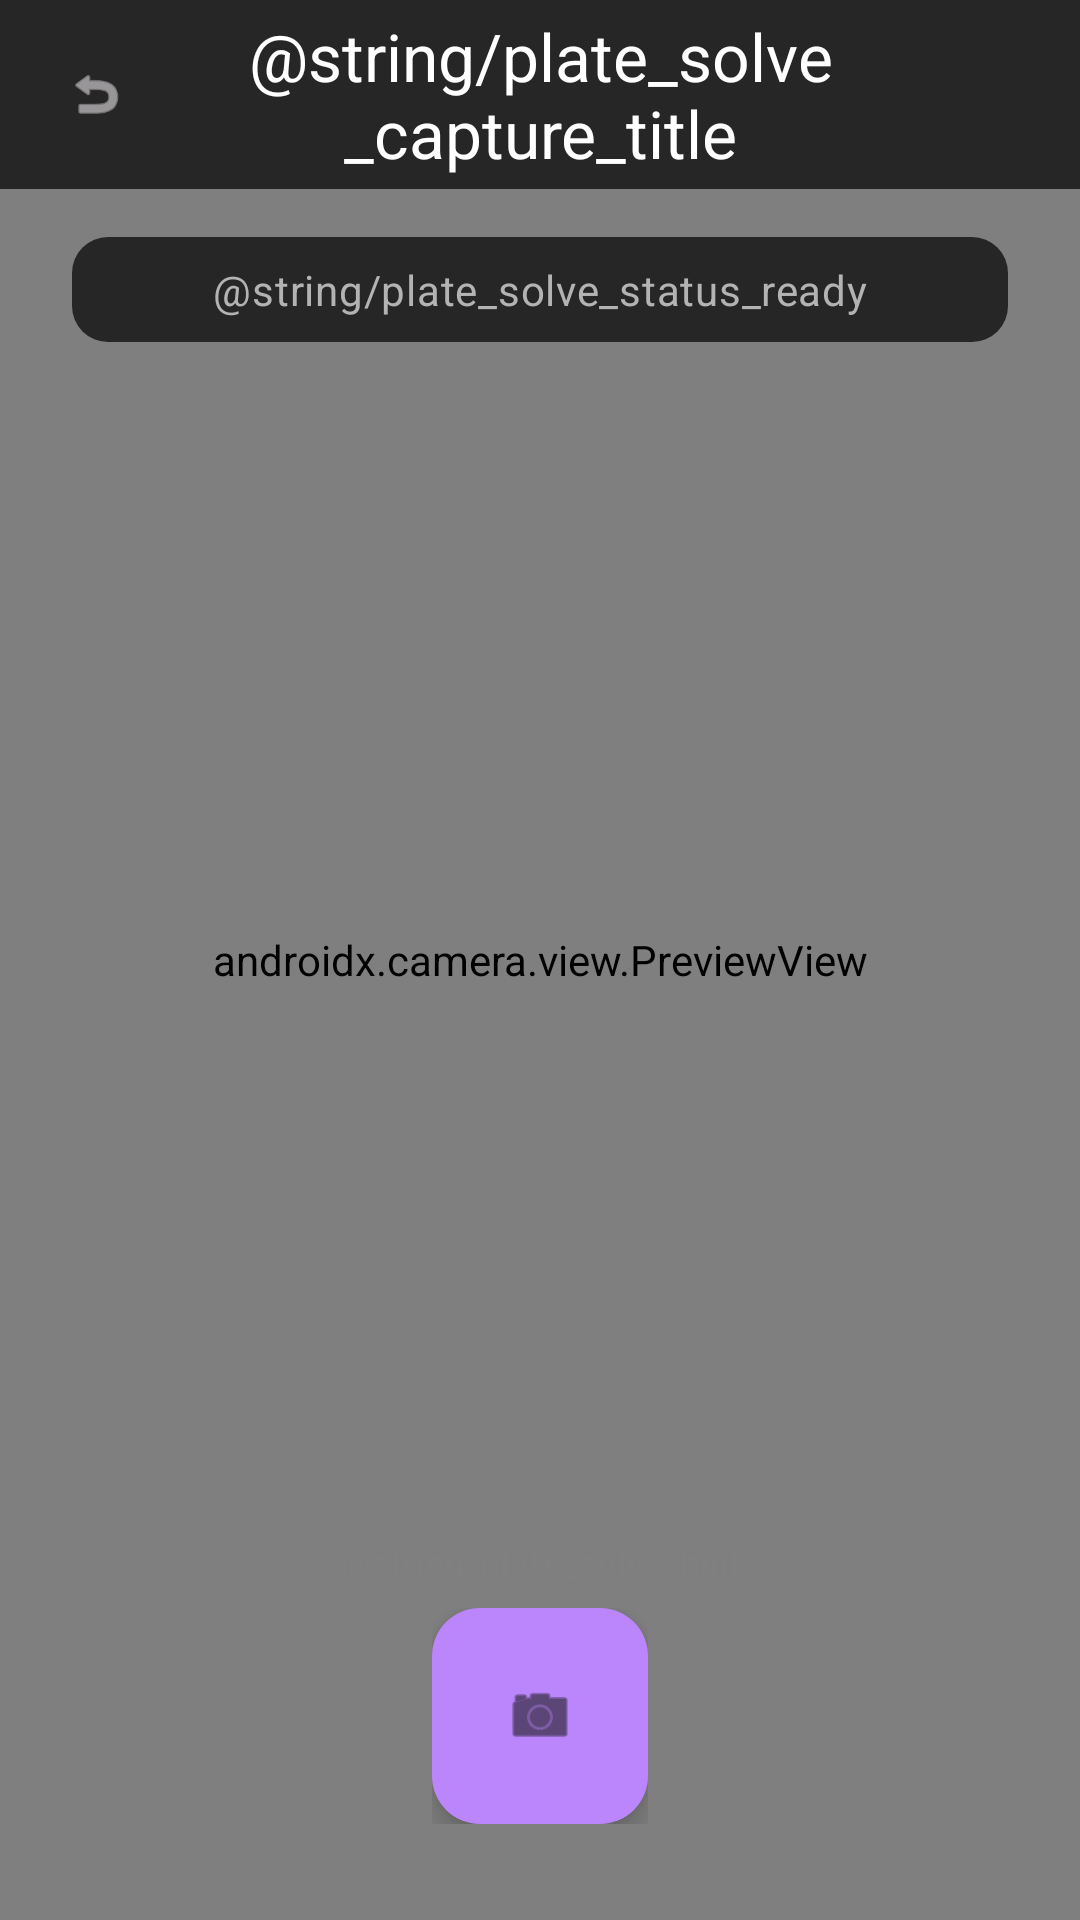

Icons on this 1080×1920 Android screen, each with its box as (x1, y1, x2, y2):
Navigate back: (75, 75, 118, 114)
